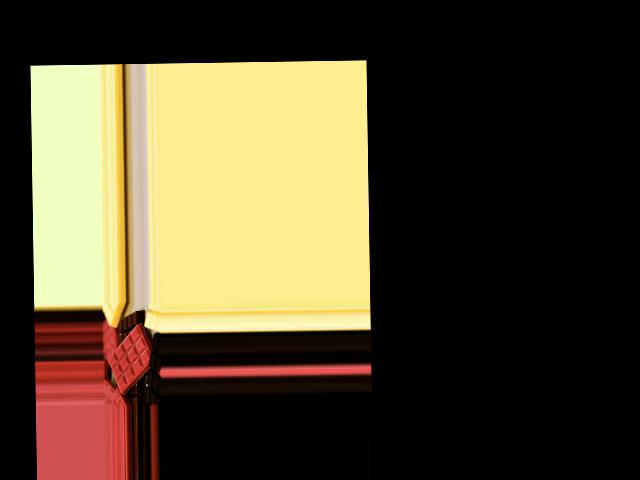chocolate: (105, 324, 162, 395)
